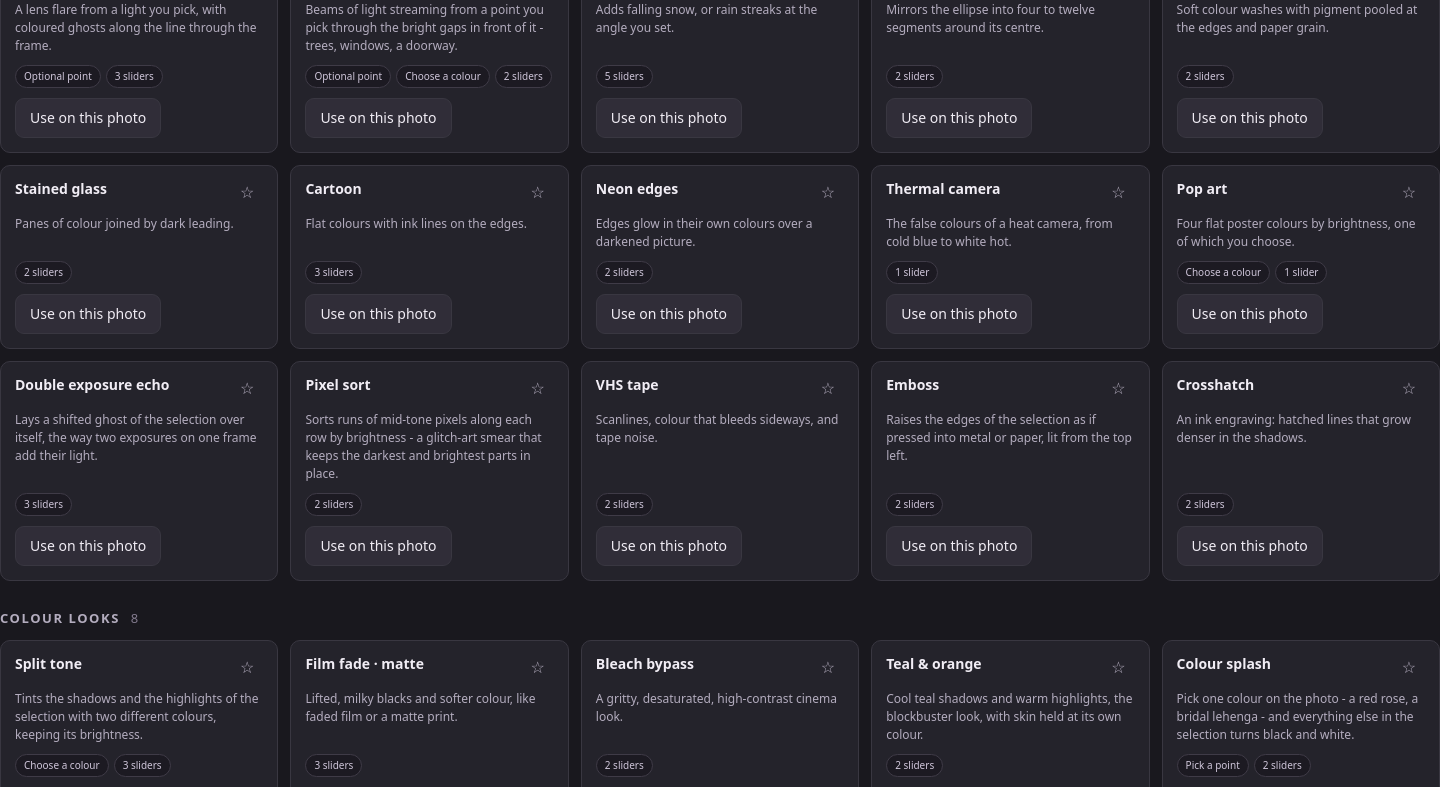
Test case: favourites are toggled from a card and listed in their own view
(page scrolled)
Click the button named "Add Emboss to favourites": (1118, 389) [1102,376,1135,401]
(page scrolled)
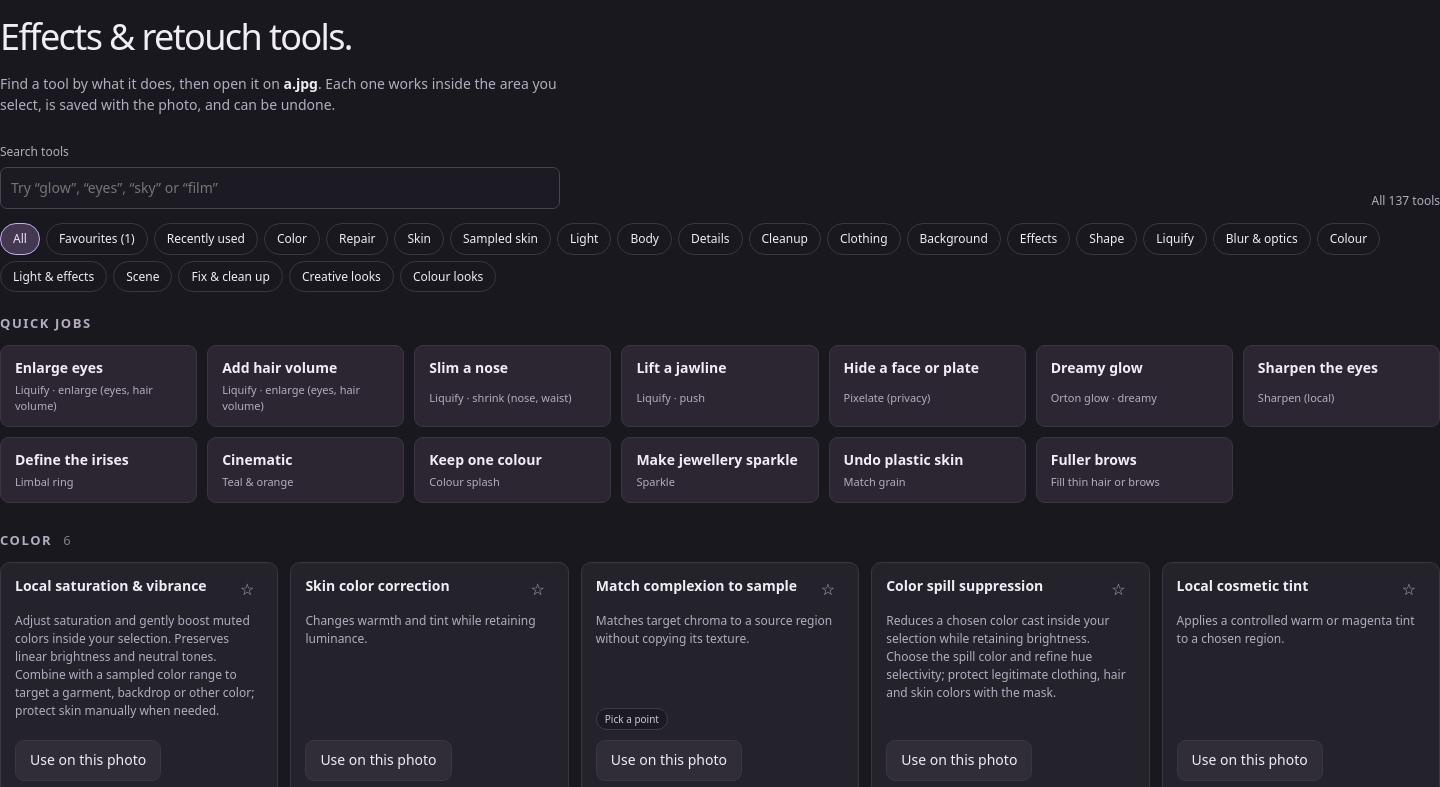
Click the button "Favourites (1)": (97, 239) [46,223,148,255]
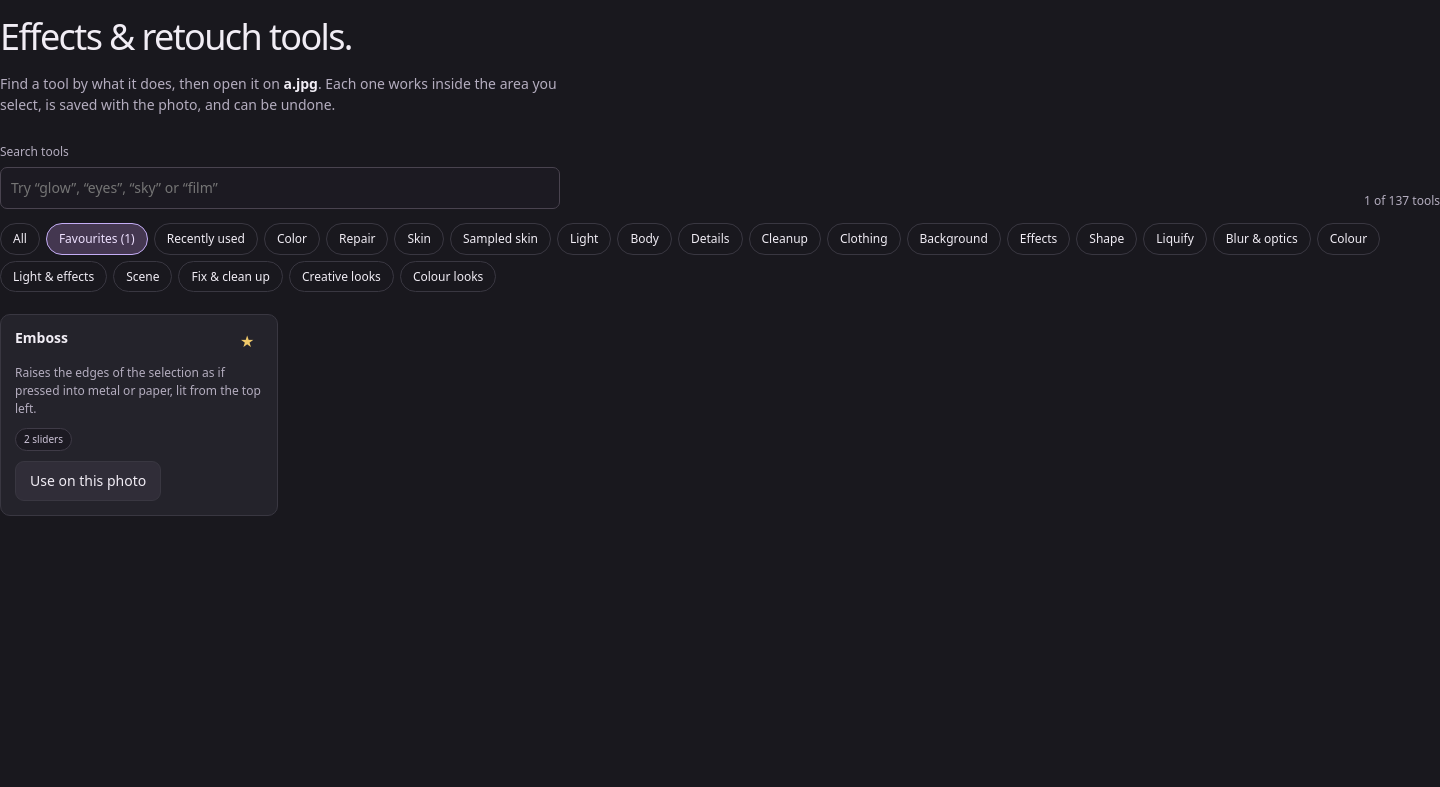
Now the number of buttons "Use on this photo" is 1, box [15,461,161,501]
Click the button named "Remove Emboss from favourites": (247, 342) [231,329,263,354]
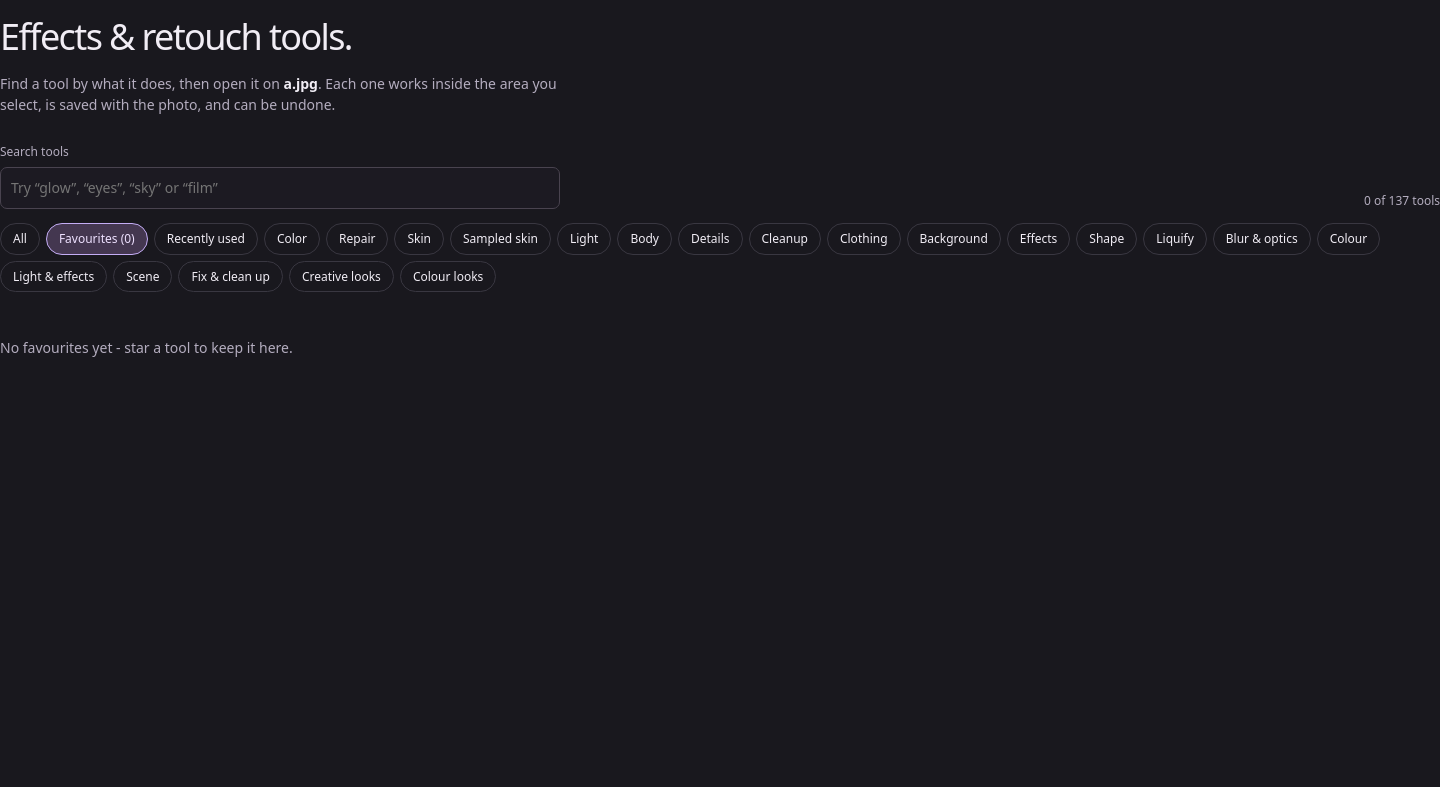
Now the text "No favourites yet - star a tool to keep it here." is shown, box [0,338,293,357]
